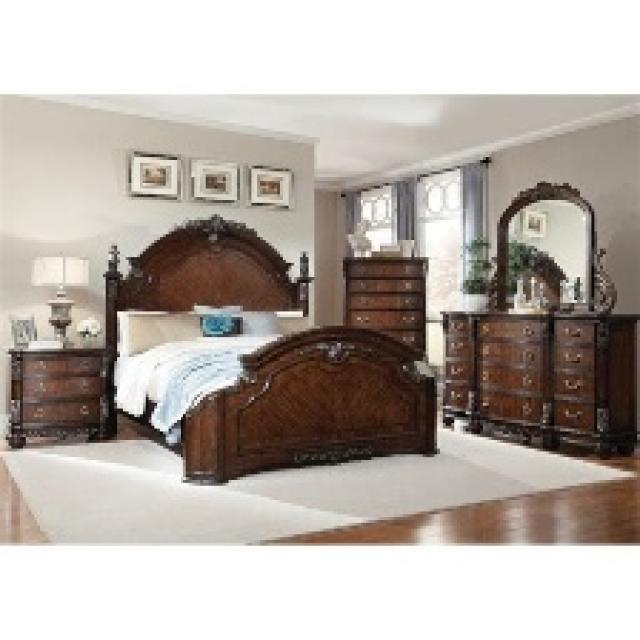Bed: (103, 211, 437, 483)
